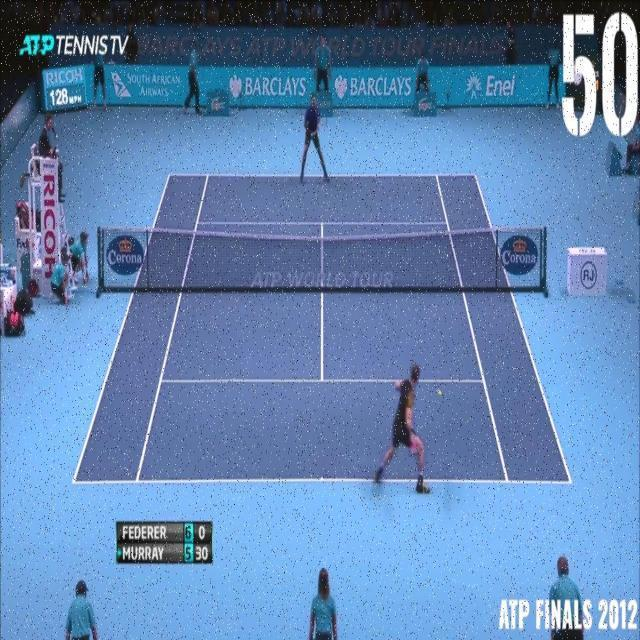left side: (437, 174, 570, 482), (74, 175, 207, 482)
player: (375, 361, 433, 494), (297, 94, 329, 184)
